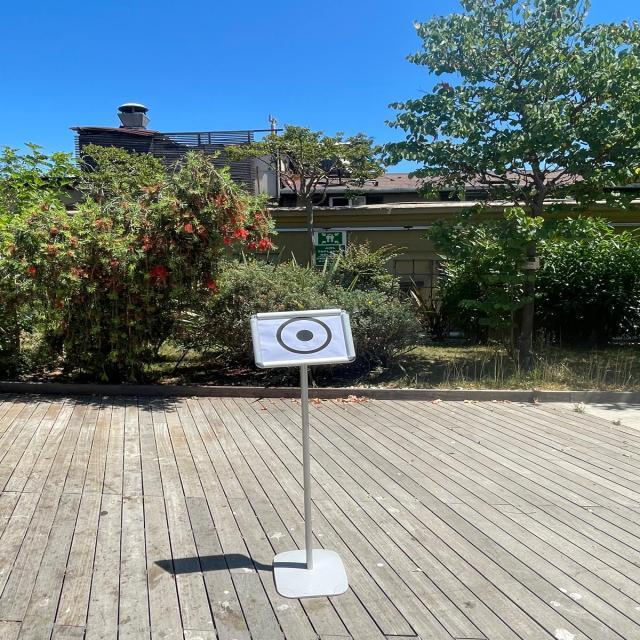Target: (240, 296, 373, 377)
inner: (292, 325, 320, 346)
